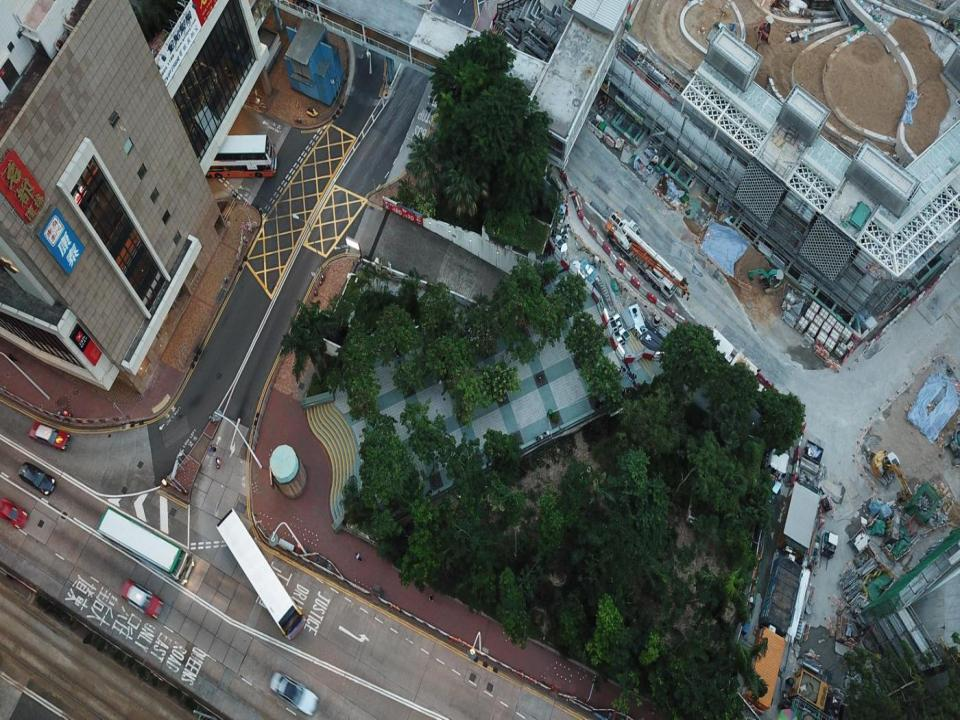bus: (215, 508, 306, 641), (98, 508, 196, 585), (185, 133, 279, 179)
car: (269, 672, 318, 716), (120, 578, 164, 618), (28, 419, 71, 452), (17, 462, 56, 496), (0, 500, 28, 532)
